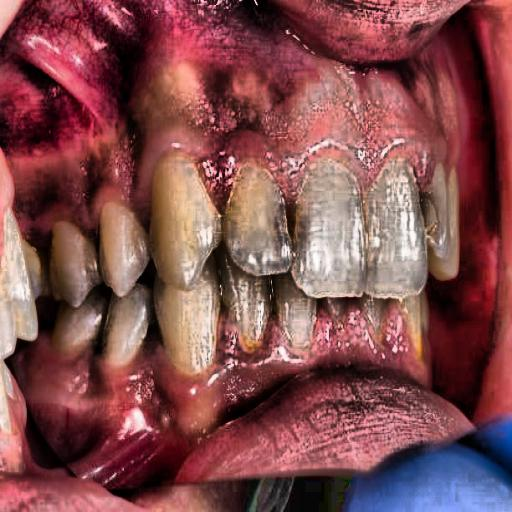Gingivitis: (56, 16, 472, 190), (91, 317, 437, 452)
